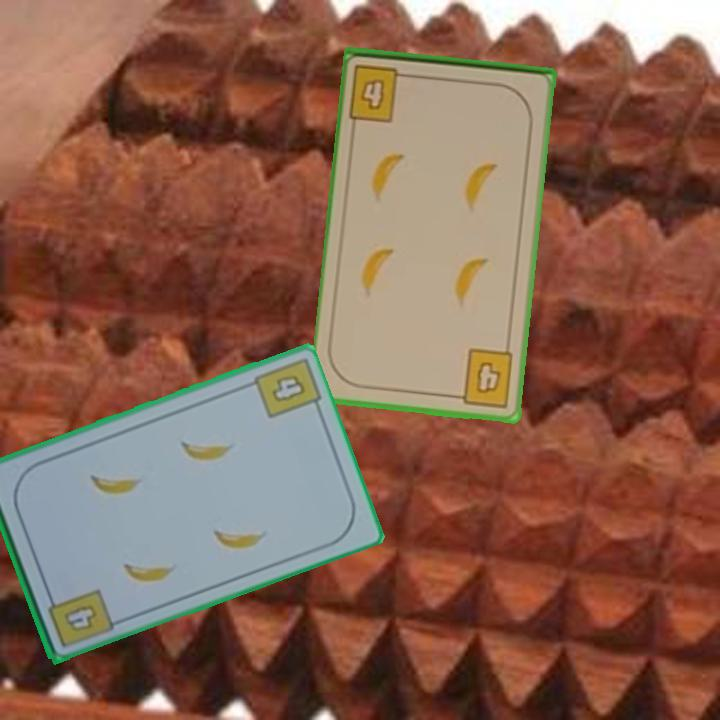4b: (43, 585, 114, 650), (346, 60, 416, 125), (450, 345, 516, 410), (268, 370, 309, 405)
